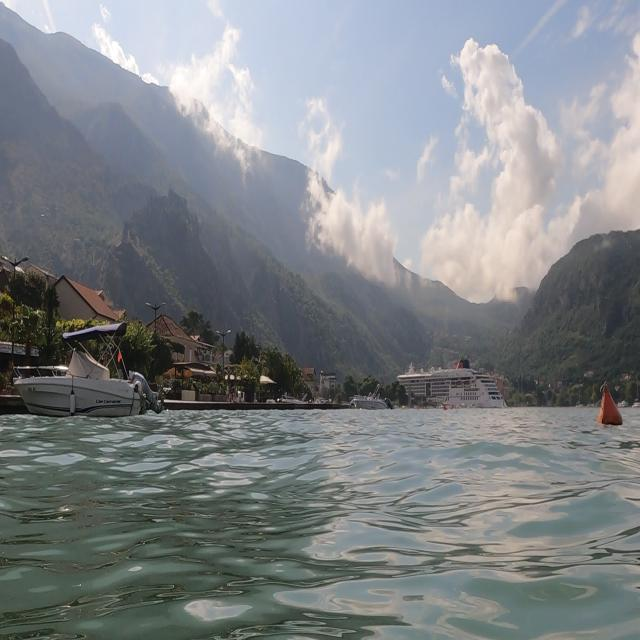boat: (13, 318, 165, 422), (394, 361, 516, 418), (346, 384, 394, 418)
buoy: (592, 376, 625, 434)
